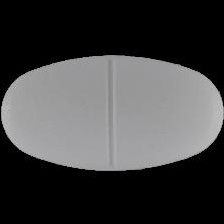55700-389: (0, 0, 224, 224)
